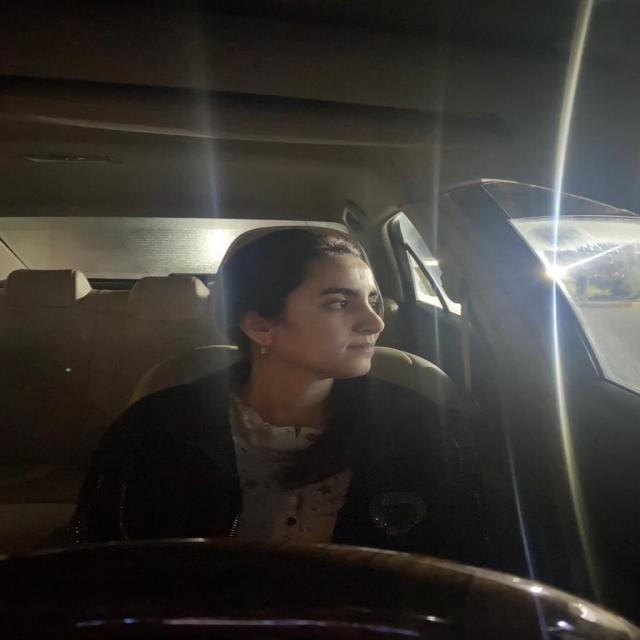LeftRight: (210, 216, 400, 397)
